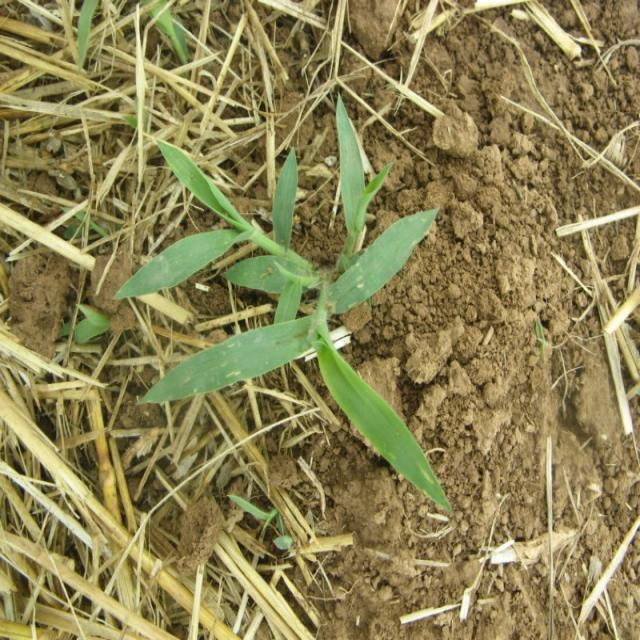bg: (117, 95, 458, 516)
